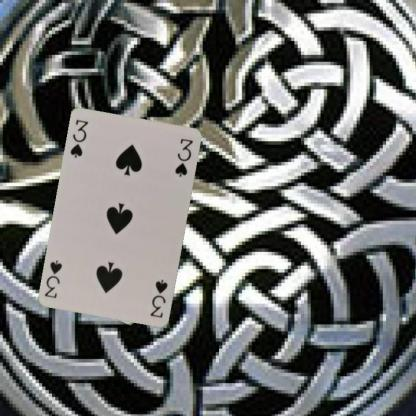3s: (68, 118, 90, 160), (148, 277, 169, 320)
